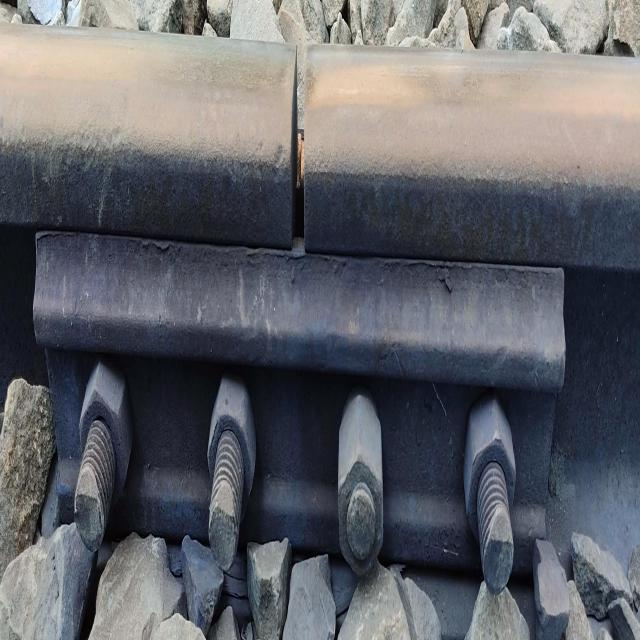Good Joint: (37, 222, 567, 609)
